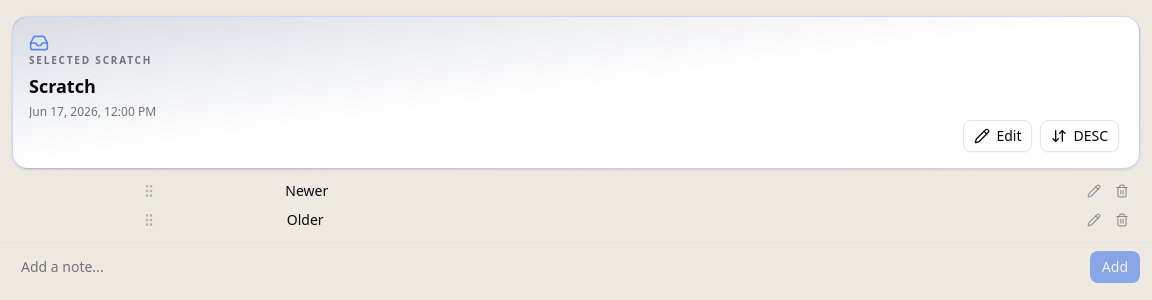
Test: BreakdownPanel › toggles stable Breakdown created-at ordering without row time labels
The image size is (1152, 300).
Expected: the elements with test id "breakdown-row" read "Newer", "Older", in this order, 12,177 -> 1140,206; 12,206 -> 1140,234
What coordinates should you click on to do the following:
click the button with aria-label "Sort: newest first"
I would click on:
 (1080, 136)
Its box is 1040,120 -> 1119,152.
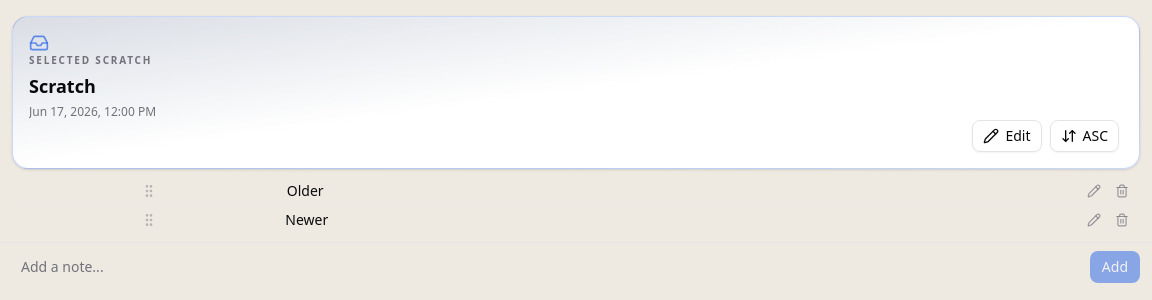
Now the elements with test id "breakdown-row" read "Older", "Newer", in this order, box 12,177 -> 1140,206; 12,206 -> 1140,234
